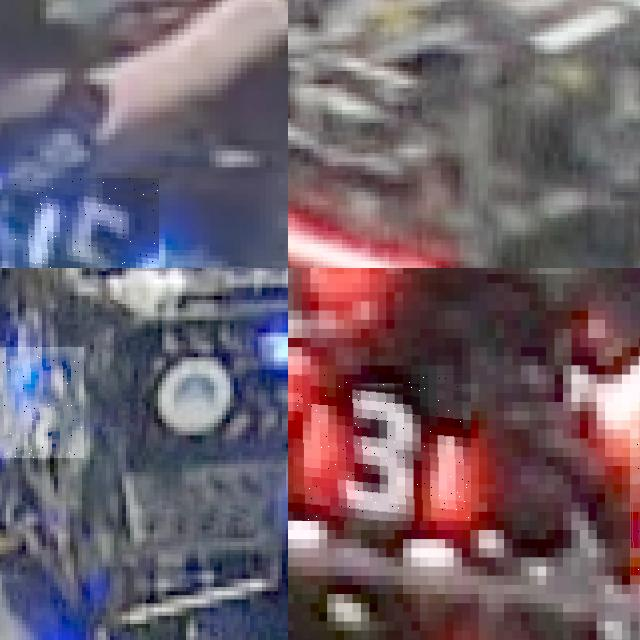B2: (0, 347, 84, 458)
B5: (14, 178, 159, 268)
R3: (293, 374, 471, 521)
